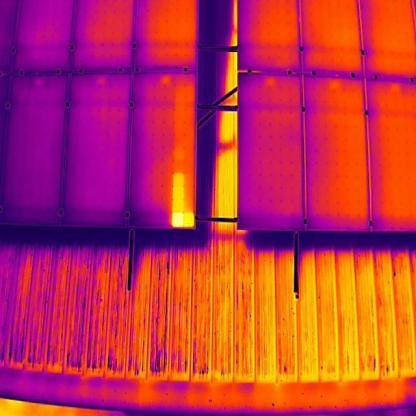anomaly: (166, 166, 202, 231)
